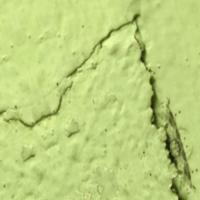crack: (26, 18, 186, 198)
